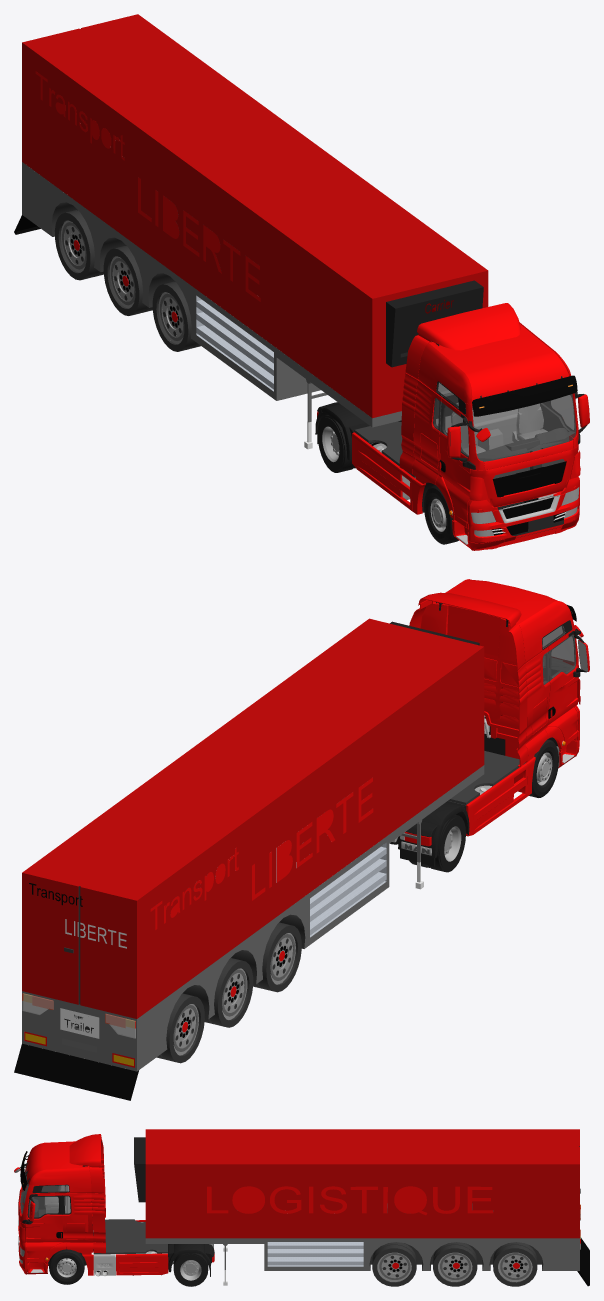
File: lkw.glb
The picture shows the model from 3 angles, top to bottom: view 1: azimuth 30°, elevation 25°; view 2: azimuth 150°, elevation 25°; view 3: azimuth 270°, elevation 25°; orthographic projection. The views are drawn at different scales.
Parts seen in each view (by area): view 1: body, Component (×10), Group (×3); view 2: body, Component (×10), Group (×3), door_r, door_l; view 3: body, Component (×11), Group (×4).
Part boxes in pixels (bbox=[...]): body: bbox=[22, 14, 488, 427]; Component (×10): bbox=[14, 71, 589, 550]; Group (×3): bbox=[51, 202, 458, 544]; body: bbox=[22, 618, 484, 1071]; Component (×10): bbox=[14, 579, 589, 1100]; Group (×3): bbox=[62, 739, 558, 1063]; door_r: bbox=[22, 873, 131, 1022]; door_l: bbox=[57, 886, 136, 1028]; body: bbox=[145, 1129, 580, 1279]; Component (×11): bbox=[14, 1134, 589, 1286]; Group (×4): bbox=[49, 1208, 543, 1286].
Bounding box in the file's own units: 3.01 × 4.03 × 17.14.
Materials: 26 (1 with a texture image).
